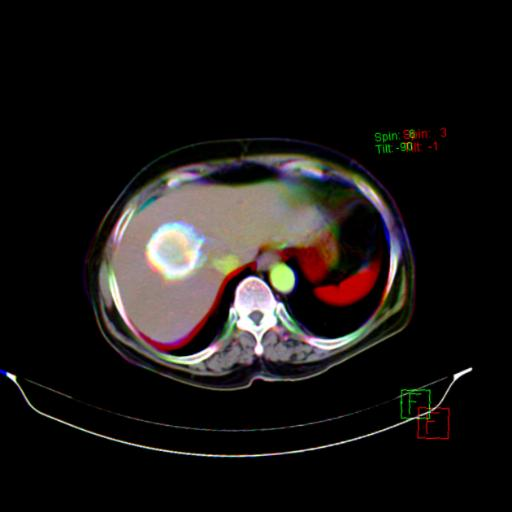Cyst: (145, 222, 204, 280)
